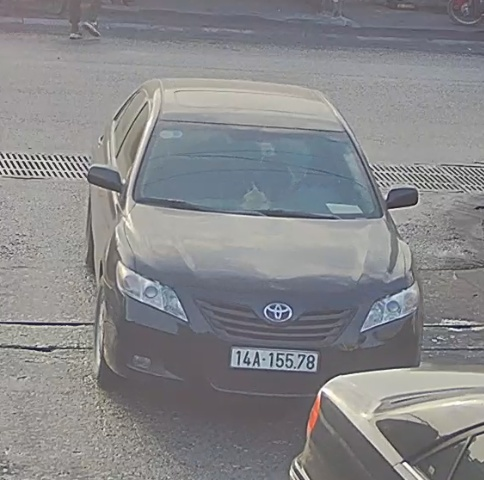vehicle plate: (227, 342, 323, 379)
